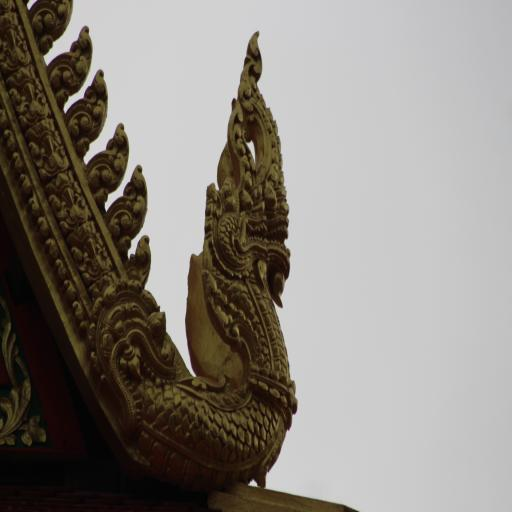lua: (70, 65, 112, 152), (88, 122, 132, 200), (50, 29, 94, 101), (112, 166, 150, 248), (34, 0, 72, 44)
ran: (152, 37, 298, 477)
